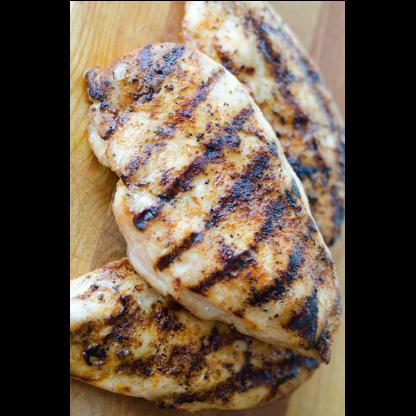grilled chicken breast: (86, 41, 341, 363), (184, 1, 346, 247), (72, 257, 322, 410)
